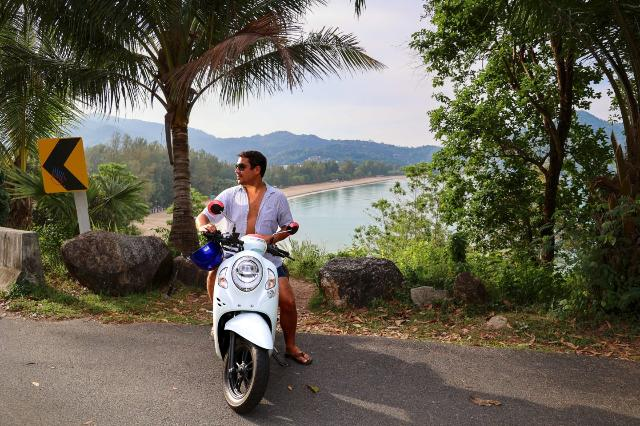motor: (202, 199, 303, 416)
non-helm: (236, 152, 268, 186)
